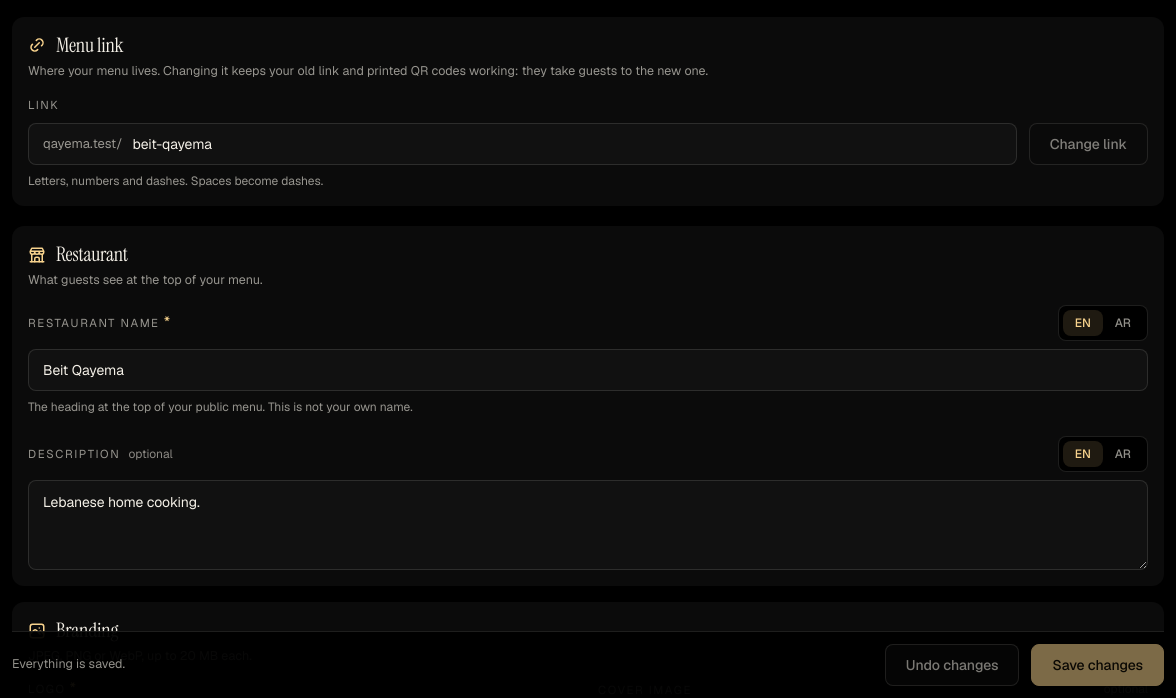
RestaurantPage › puts a server error on the field it names
Type "!" into the field labelled "Restaurant name*" at [588, 370], box 29,350 -> 1147,390
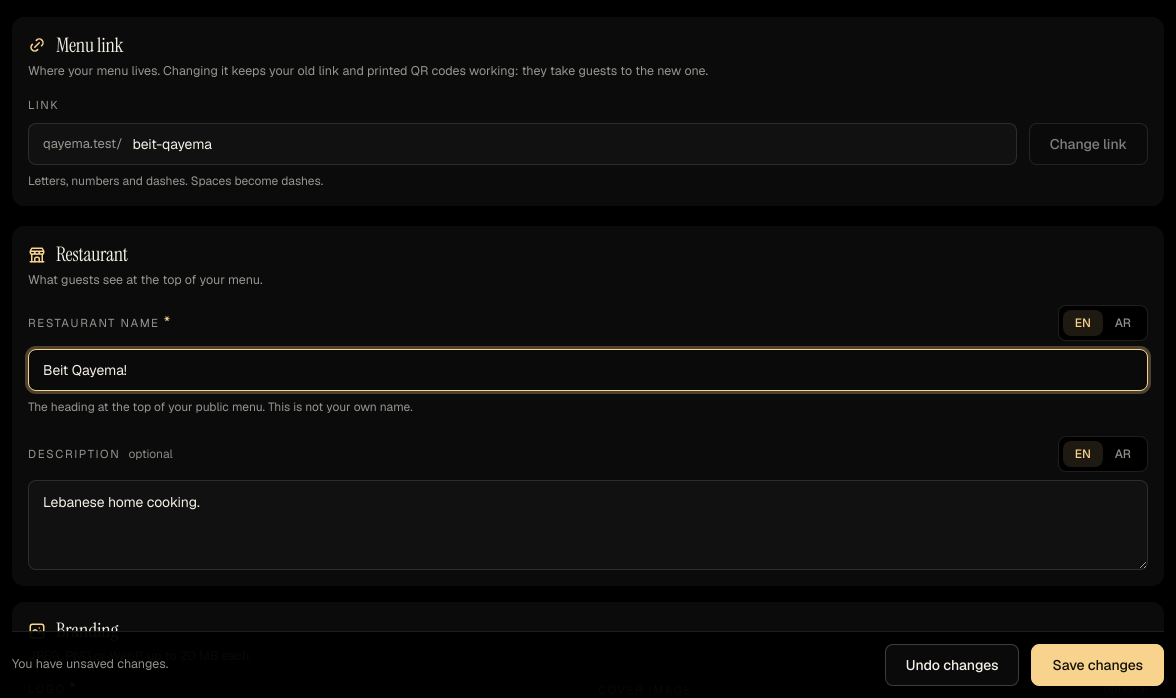
Click the button "Save changes" at [1098, 665], box 1032,644 -> 1164,686
(page scrolled)
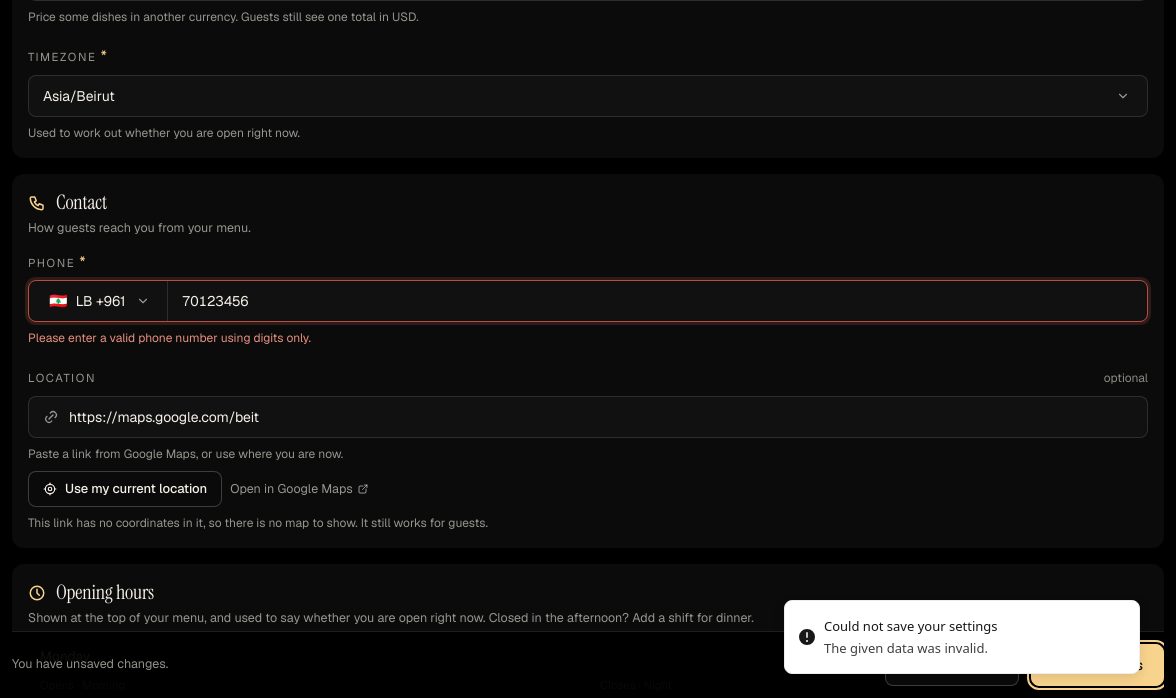
expect the text "Please enter a valid phone number using digits only." is shown: met, box 28,330 -> 311,348
